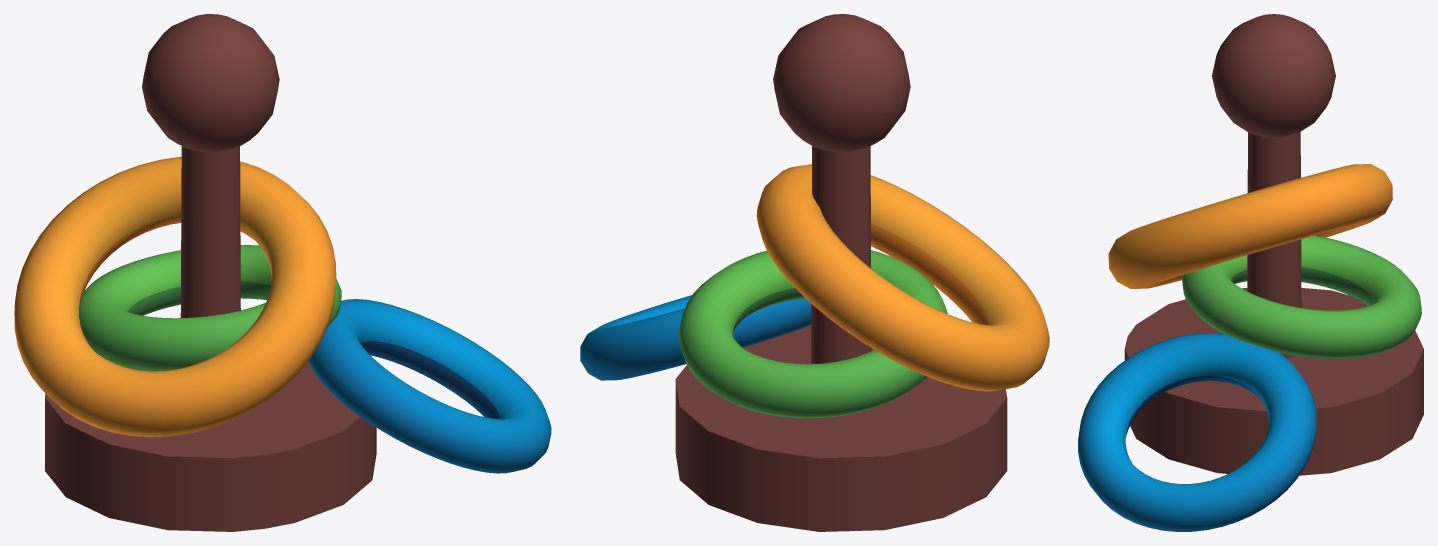
The model's file is toy_child01.fbx.
3 renders of one model, left to right at view 1: azimuth 30°, elevation 25°; view 2: azimuth 150°, elevation 25°; view 3: azimuth 270°, elevation 25°, orthographic. The views are drawn at different scales.
Visible parts, largest first — view 1: Games; view 2: Games; view 3: Games.
Part boxes in pixels (bbox=[...]): Games: bbox=[14, 14, 551, 531]; Games: bbox=[580, 14, 1049, 531]; Games: bbox=[1078, 14, 1423, 531].
Size of the model in its own units: 27.62 by 38.17 by 35.16.
